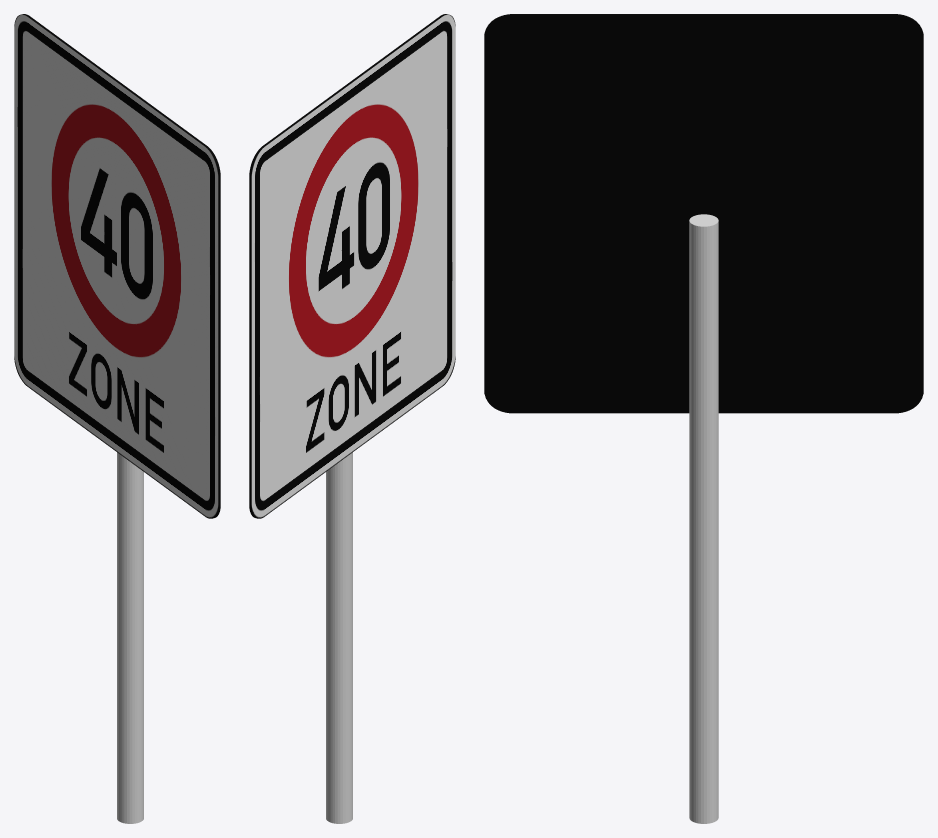
Rendered from speed_limit_zone_40_start_sign.dae.
3 views of the same model, side by side, from view 1: azimuth 30°, elevation 25°; view 2: azimuth 150°, elevation 25°; view 3: azimuth 270°, elevation 25° (orthographic). The views are drawn at different scales.
Parts seen in each view (by area): view 1: path3678, Cylinder; view 2: path3678, Cylinder; view 3: path3678, Cylinder.
Boxes of the visible parts, left/top/right/bottom form: path3678: left=14, top=14, right=220, bottom=518; Cylinder: left=117, top=452, right=143, bottom=823; path3678: left=249, top=14, right=455, bottom=518; Cylinder: left=326, top=452, right=352, bottom=823; path3678: left=484, top=14, right=923, bottom=413; Cylinder: left=689, top=214, right=718, bottom=823.
Bounding box in the file's own units: 0.011 × 0.15 × 0.3.
Materials: 3 (2 with a texture image).
